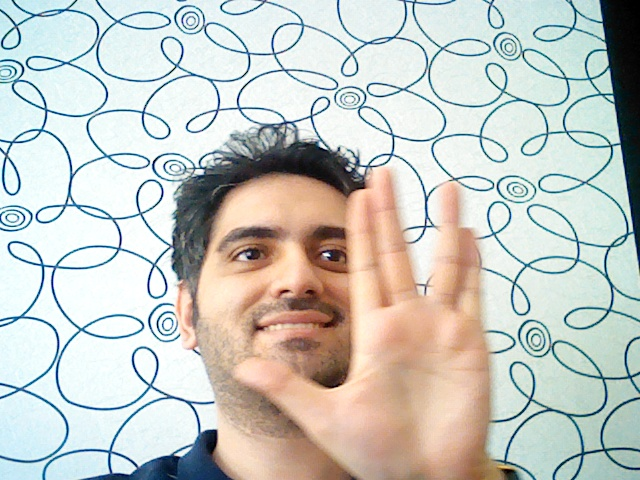LiveLong: (232, 166, 488, 480)
